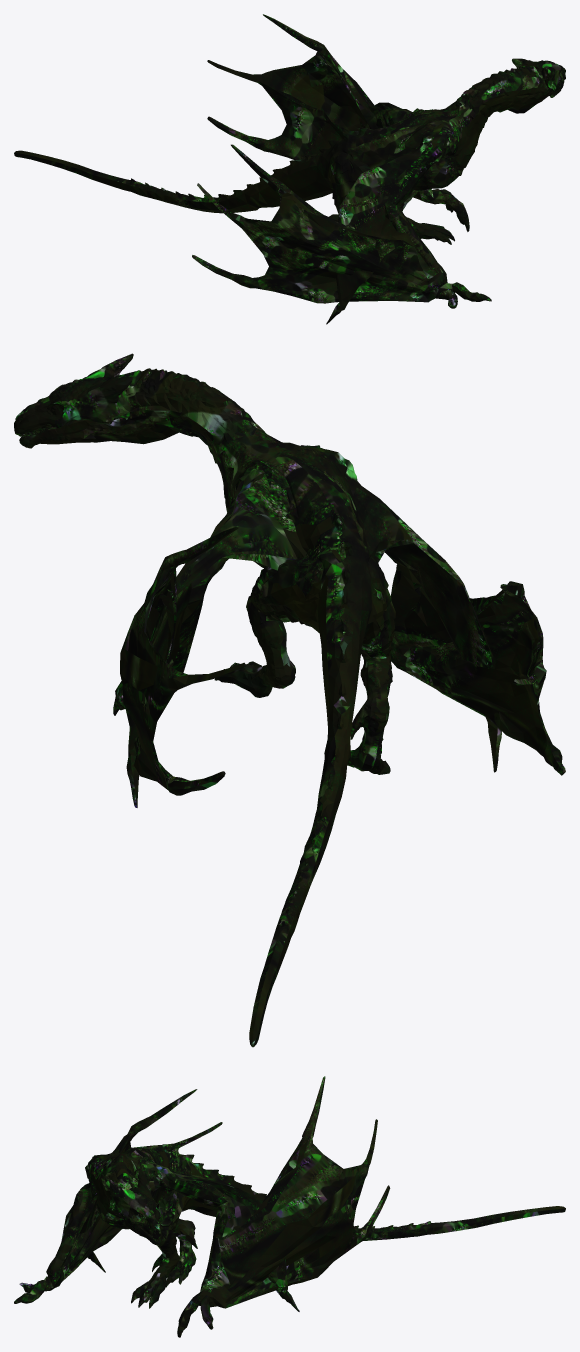
Rendered from frame_0035_uv.obj.
3 renders of one model, top to bottom at view 1: azimuth 30°, elevation 25°; view 2: azimuth 150°, elevation 25°; view 3: azimuth 270°, elevation 25°, orthographic. The views are drawn at different scales.
Visible parts, largest first — view 1: pMesh1; view 2: pMesh1; view 3: pMesh1.
Boxes of the visible parts, <box> form: pMesh1: <box>14,14,565,324</box>; pMesh1: <box>14,353,565,1047</box>; pMesh1: <box>14,1076,565,1337</box>.
Size of the model in its own units: 1.42 by 0.8371 by 1.91.
